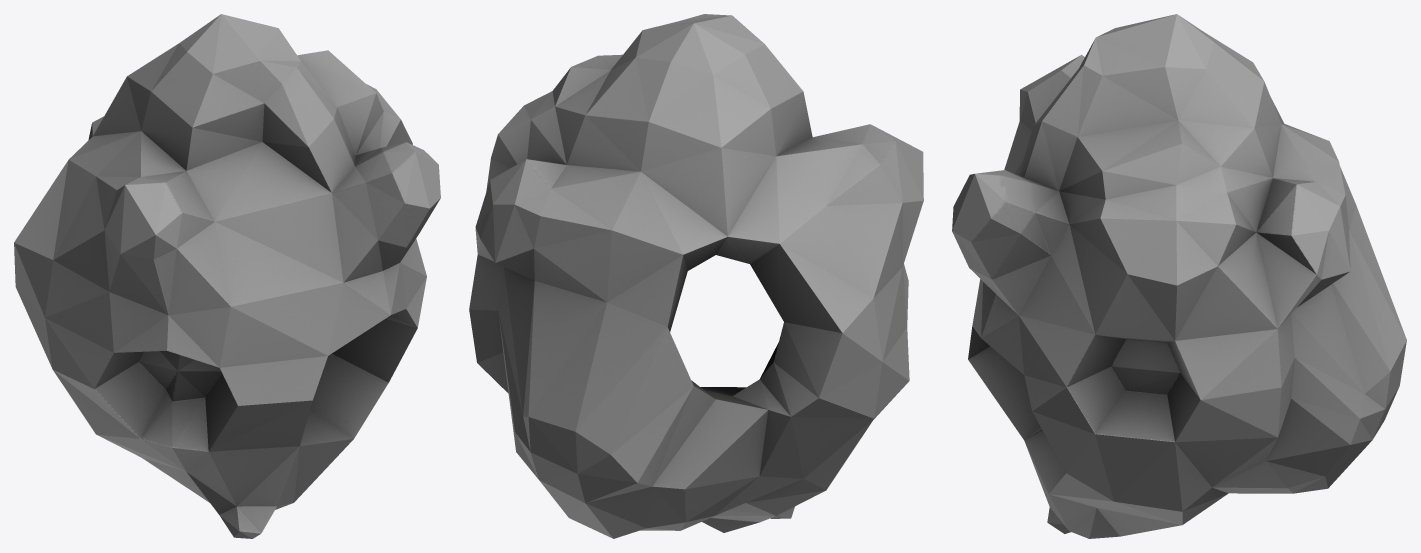
File: asteroid_1.fbx
3 views of the same model, side by side, from view 1: azimuth 30°, elevation 25°; view 2: azimuth 150°, elevation 25°; view 3: azimuth 270°, elevation 25° (orthographic). The views are drawn at different scales.
Parts seen in each view (by area): view 1: Cube; view 2: Cube; view 3: Cube.
Boxes of the visible parts, x1,y1,x2,y2 form: Cube: (14, 14, 440, 538); Cube: (469, 14, 923, 538); Cube: (952, 14, 1406, 538).
Bounding box in the file's own units: 4.51 × 5.85 × 4.54.
